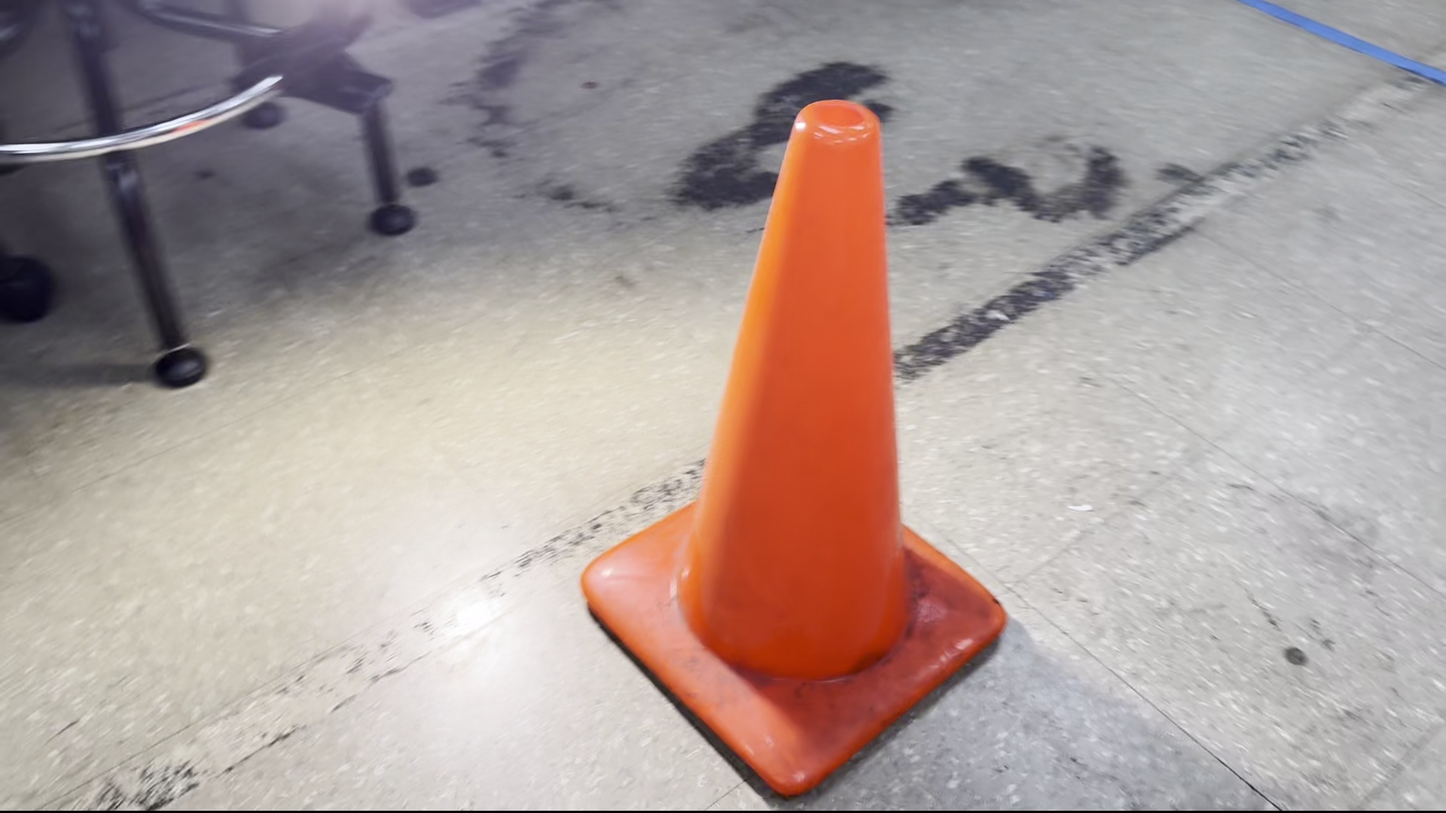traffic_cone: (579, 98, 1008, 799)
